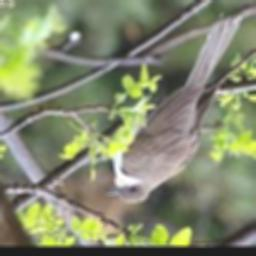Cuckoo: (104, 12, 243, 204)
